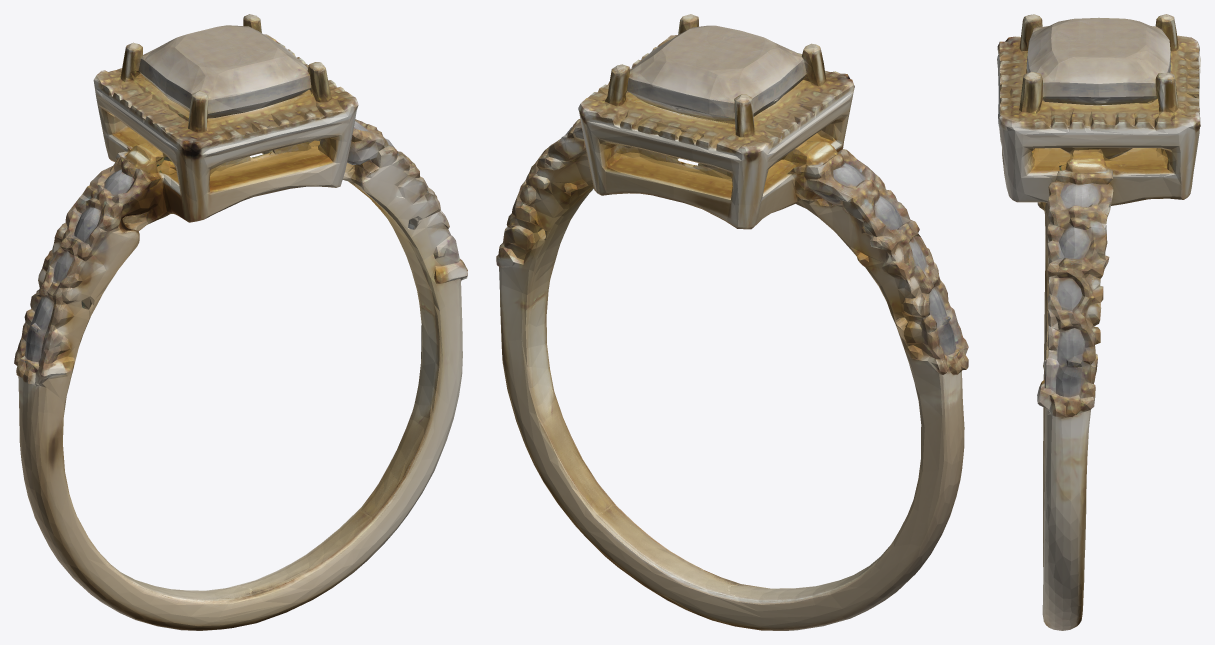
File: ring2.gltf
The picture shows the model from 3 angles, left to right: view 1: azimuth 30°, elevation 25°; view 2: azimuth 150°, elevation 25°; view 3: azimuth 270°, elevation 25°; orthographic projection. The views are drawn at different scales.
Parts seen in each view (by area): view 1: world; view 2: world; view 3: world.
Part boxes in pixels (x1,y1,x2,y2): world: [14, 14, 467, 630]; world: [496, 14, 968, 630]; world: [997, 14, 1200, 630].
Size of the model in its own units: 0.5757 by 0.6981 by 0.2267.
Materials: 1 (1 with a texture image).
